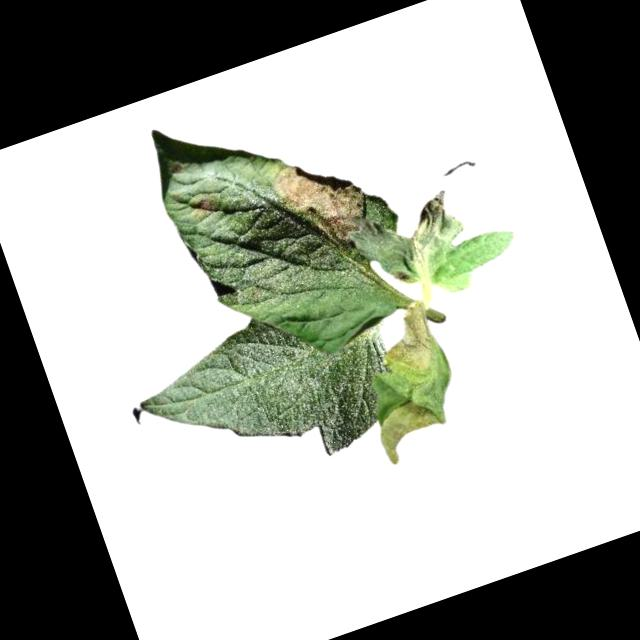Late_blight: (345, 187, 476, 300), (268, 145, 379, 267), (365, 376, 459, 467), (368, 295, 448, 390), (189, 190, 225, 222)
